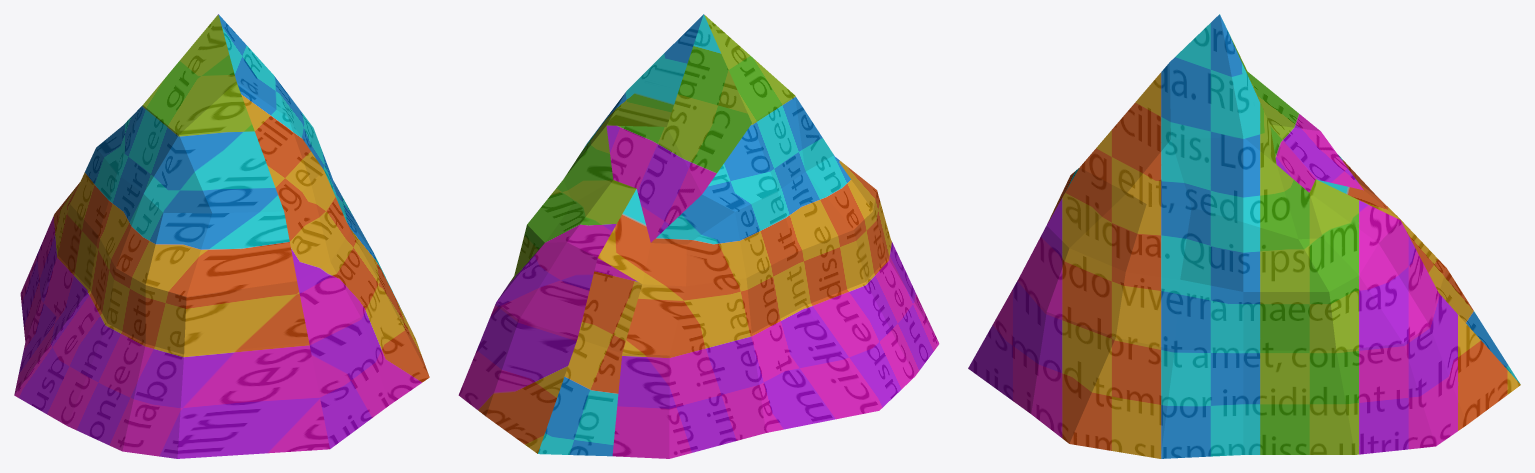
File: SM_Mountain_1.fbx
The picture shows the model from 3 angles, left to right: view 1: azimuth 30°, elevation 25°; view 2: azimuth 150°, elevation 25°; view 3: azimuth 270°, elevation 25°; orthographic projection. The views are drawn at different scales.
Visible parts, largest first — view 1: SM_Mountain_1; view 2: SM_Mountain_1; view 3: SM_Mountain_1.
Part boxes in pixels (left/top/right/bottom): SM_Mountain_1: left=14, top=14, right=429, bottom=458; SM_Mountain_1: left=458, top=14, right=939, bottom=458; SM_Mountain_1: left=968, top=14, right=1520, bottom=458.
Bounding box in the file's own units: 83.24 × 76.26 × 106.
Materials: 1 (1 with a texture image).
